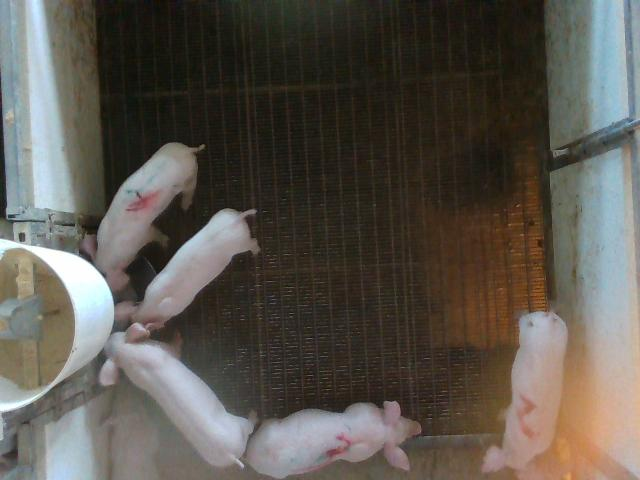pig-2: (482, 311, 568, 479)
pig-3: (245, 401, 421, 478)
pig-4: (81, 142, 203, 292)
